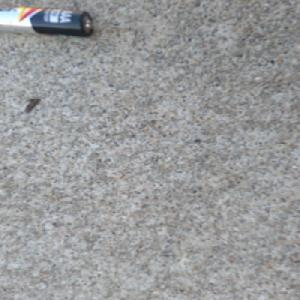Battery: (0, 4, 96, 38)
